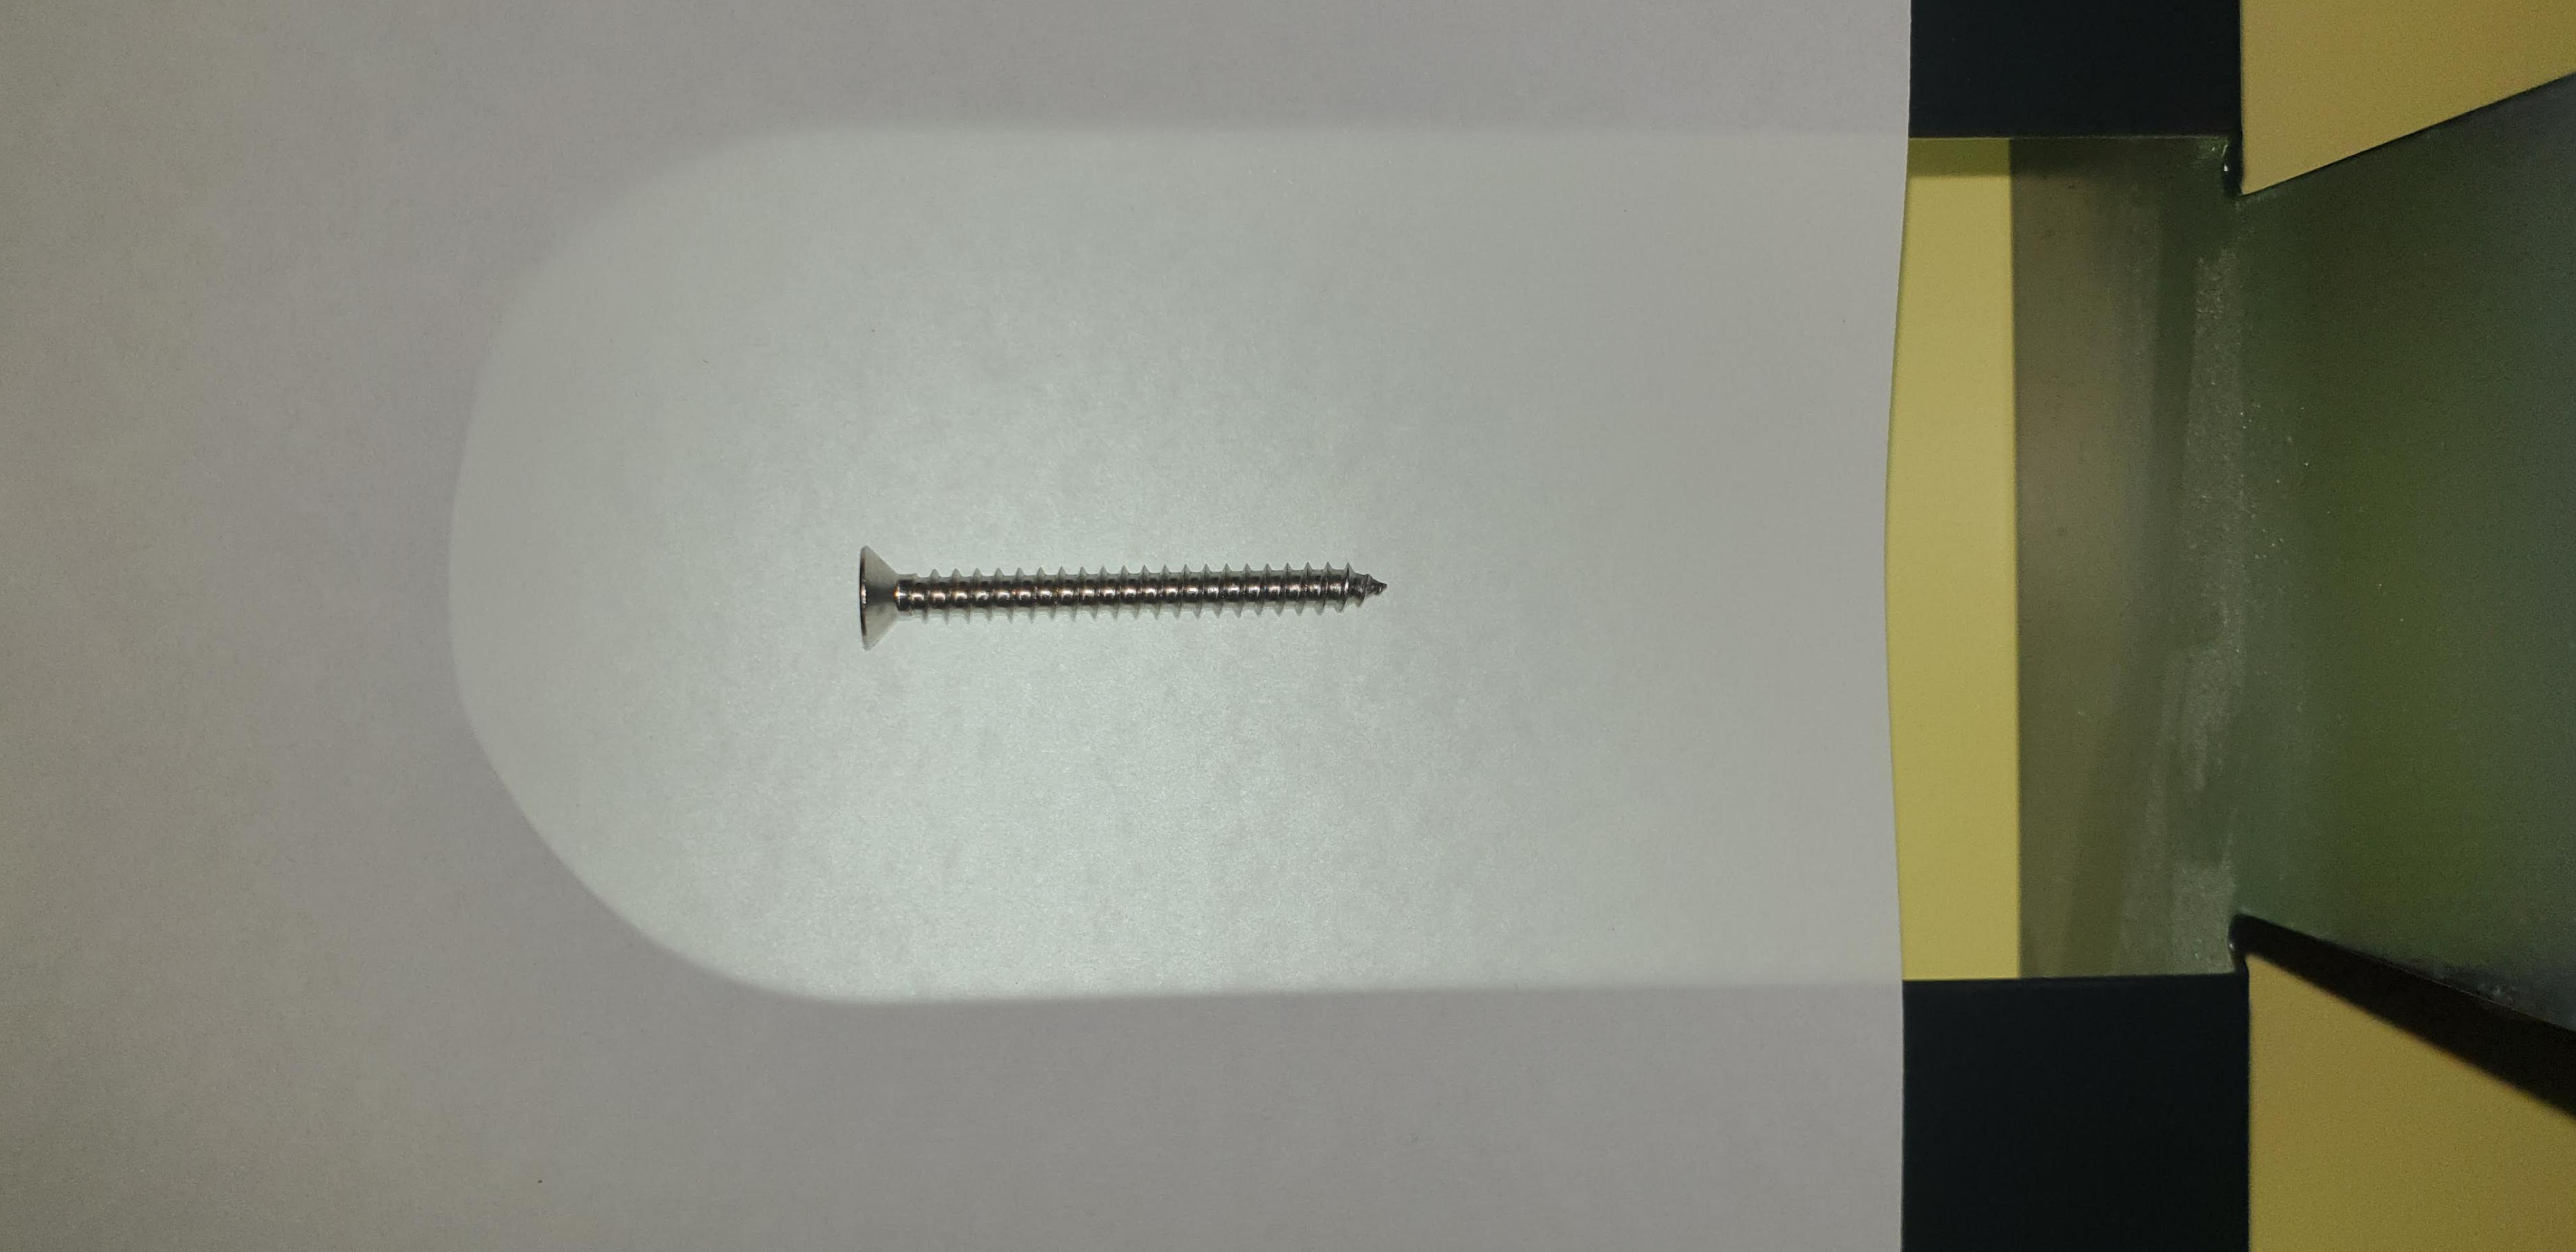fastener: (784, 495, 1479, 693)
